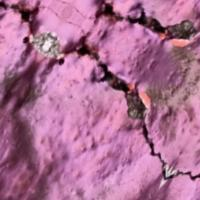crack: (2, 0, 199, 181)
